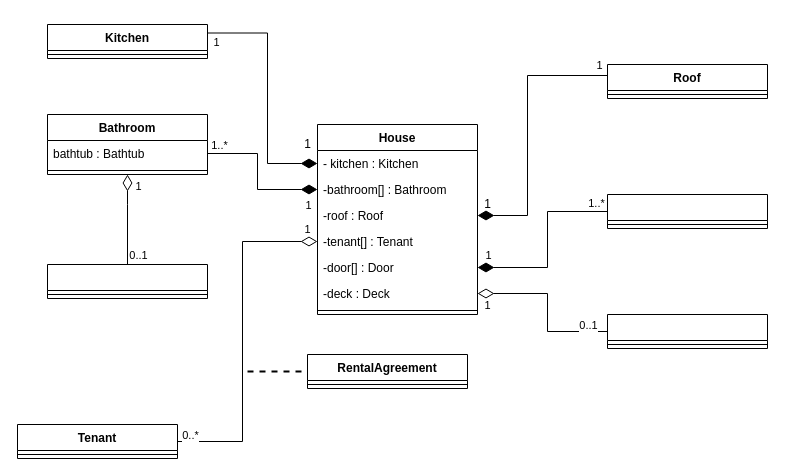
The diagram is 785 pixels wide and 476 high, and some of its shapes have lost their labels. Here are the shapes that lost their labels. From the top down, the centre of each, then its label:
At point (687, 211): "Door".
At point (127, 281): "Bathtub".
At point (687, 331): "Deck".
